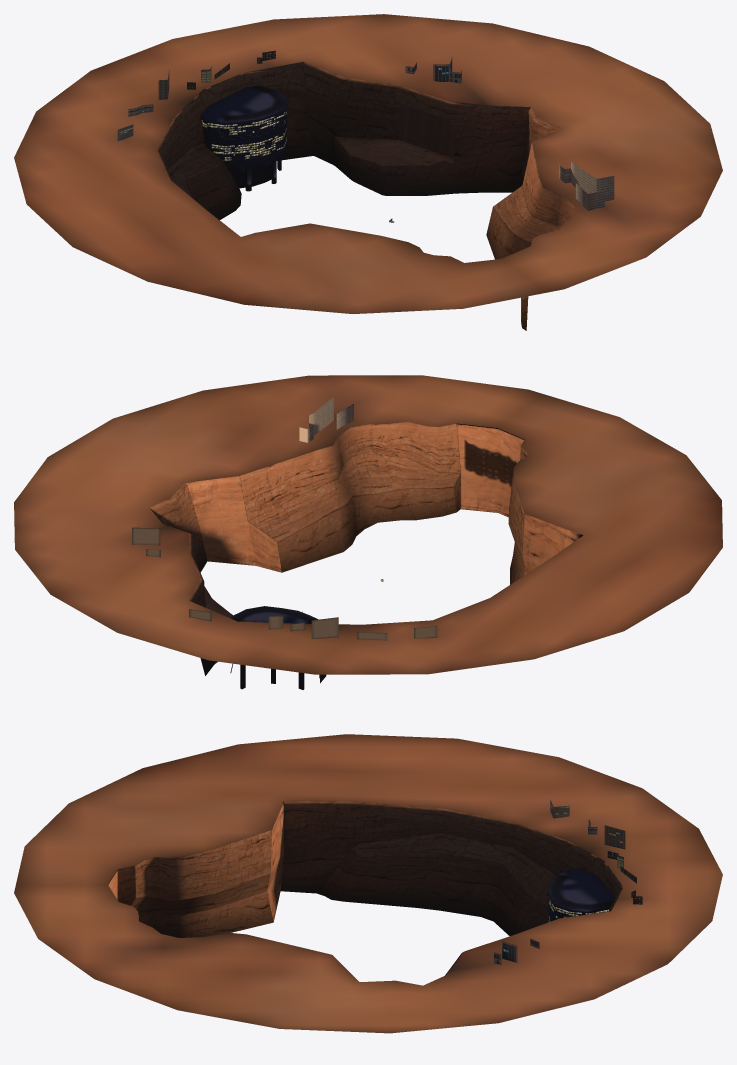
Rendered from CliffVista_mesh.glb.
The picture shows the model from 3 angles, top to bottom: view 1: azimuth 30°, elevation 25°; view 2: azimuth 150°, elevation 25°; view 3: azimuth 270°, elevation 25°; orthographic projection.
Visible parts, largest first — view 1: CliffVista_mesh; view 2: CliffVista_mesh; view 3: CliffVista_mesh.
Part boxes in pixels (bbox=[...]): CliffVista_mesh: bbox=[14, 14, 722, 330]; CliffVista_mesh: bbox=[14, 375, 722, 689]; CliffVista_mesh: bbox=[14, 734, 722, 1033].
Bounding box in the file's own units: 1060 × 185 × 1060.
1 material, 1 textured.
